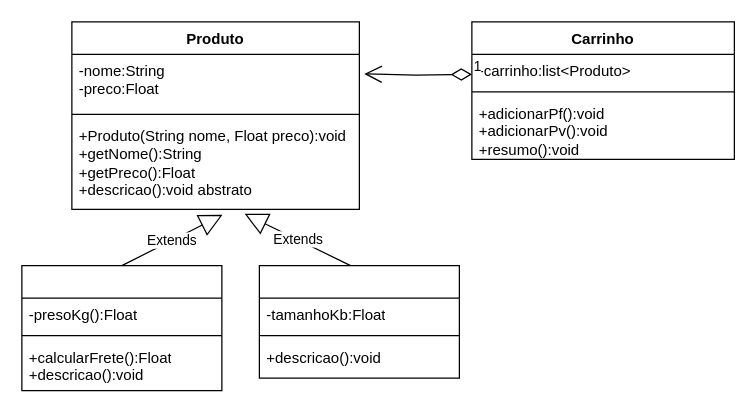
This 756x416 diagram has some shape labels left out. Each missing label, with the box of its shape:
ProdutoFisico: (21, 264, 222, 391)
ProdutoVirtual: (258, 264, 459, 378)
